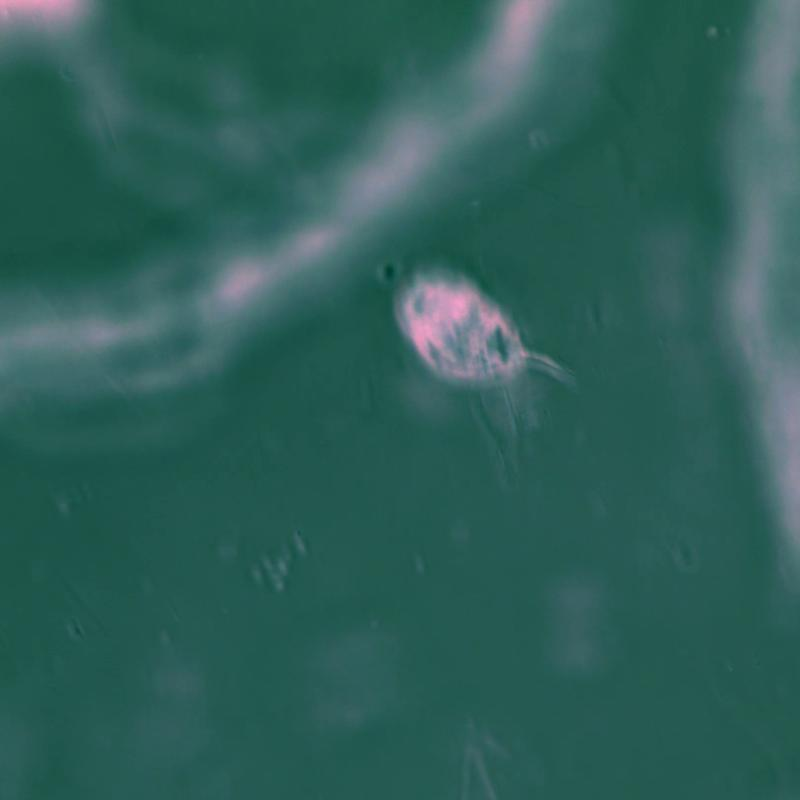depth:80: (370, 242, 629, 432)
